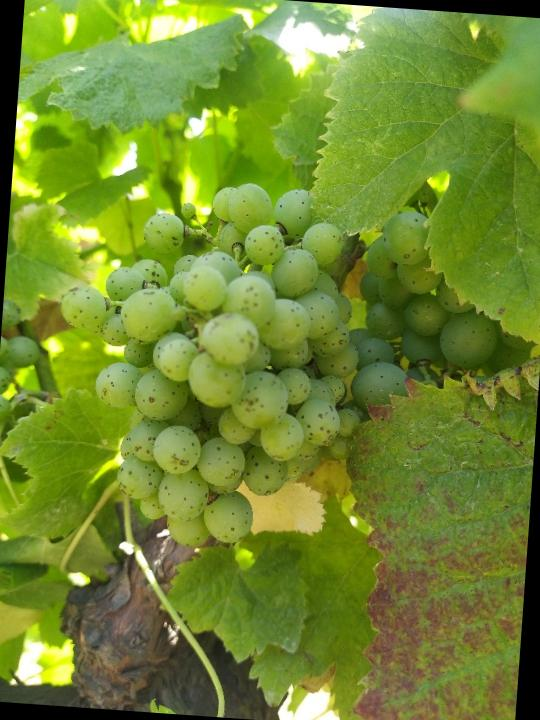grape: (41, 168, 378, 560)
